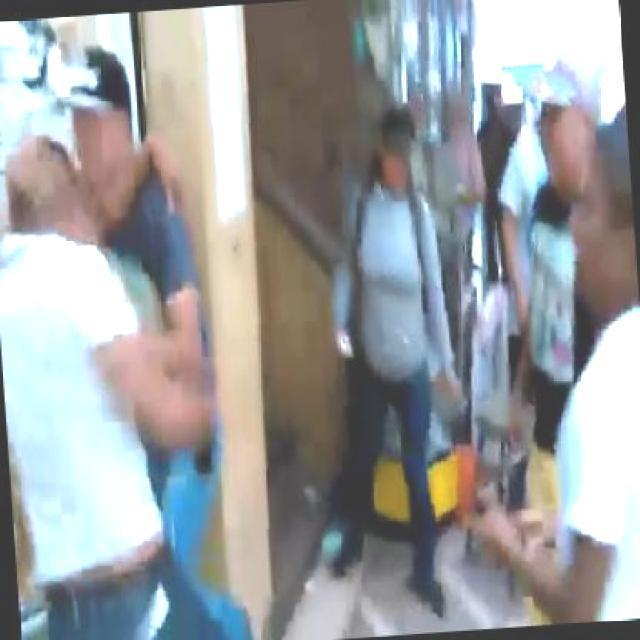fight: (0, 36, 243, 638)
